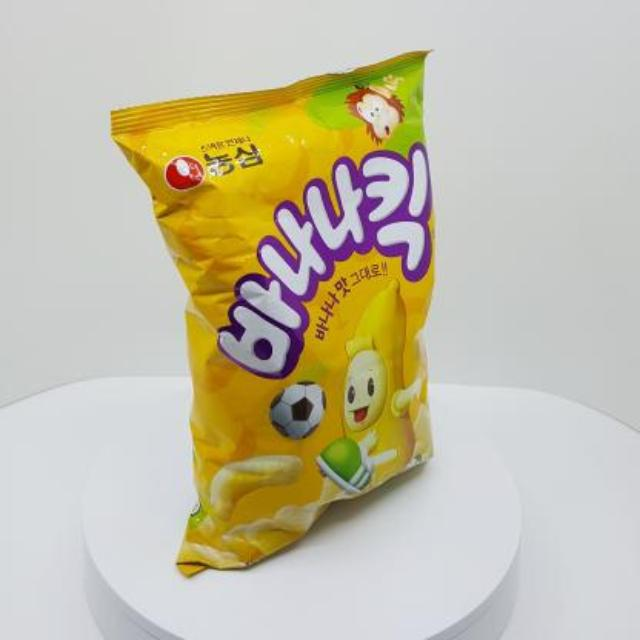snack_bag: (103, 41, 461, 590)
